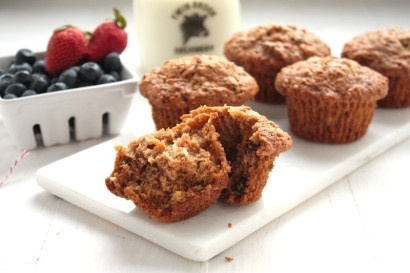background: (67, 9, 262, 94), (0, 3, 82, 42)
